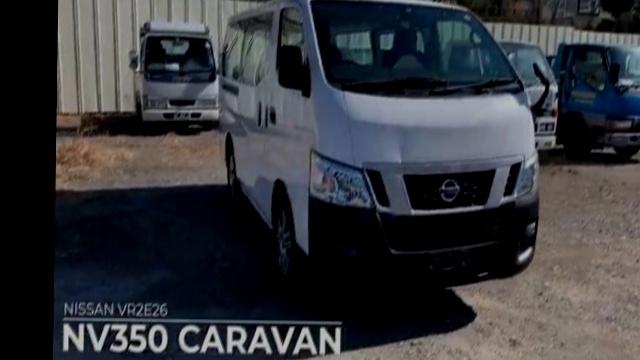van: (212, 0, 546, 301)
